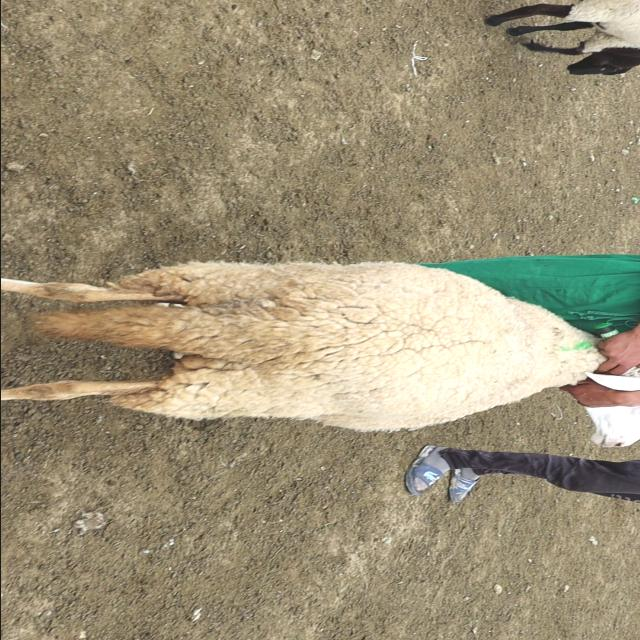Score_4: (1, 261, 603, 431)
